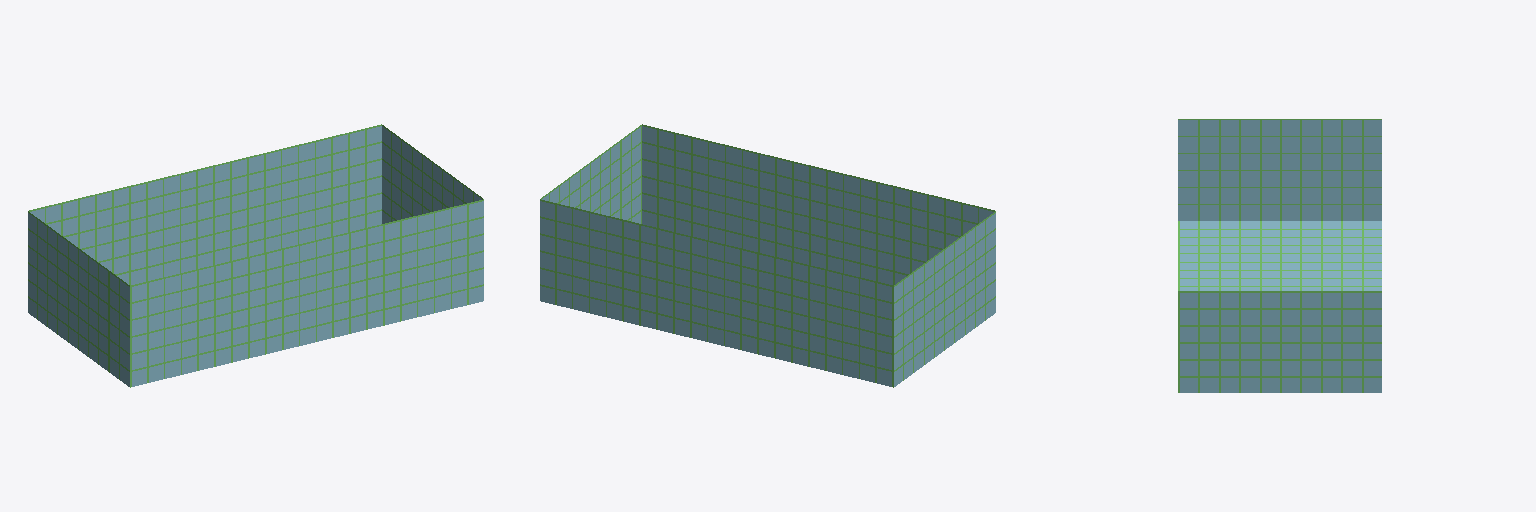
File: disco.obj
3 renders of one model, left to right at view 1: azimuth 30°, elevation 25°; view 2: azimuth 150°, elevation 25°; view 3: azimuth 270°, elevation 25°, orthographic.
Visible parts, largest first — view 1: Box001; view 2: Box001; view 3: Box001.
Part boxes in pixels (bbox=[...]): Box001: bbox=[28, 124, 483, 387]; Box001: bbox=[540, 124, 995, 387]; Box001: bbox=[1178, 119, 1381, 392].
Bounding box in the file's own units: 800 × 220 × 400.